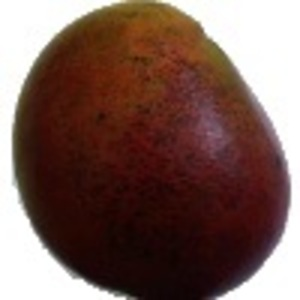manga: (11, 1, 292, 300)
